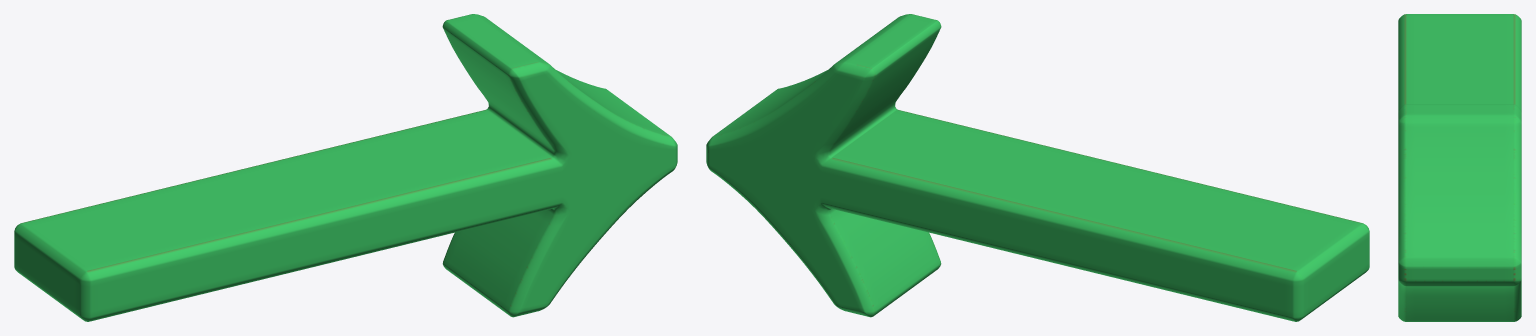
Rendered from flecheFine.fbx.
3 renders of one model, left to right at view 1: azimuth 30°, elevation 25°; view 2: azimuth 150°, elevation 25°; view 3: azimuth 270°, elevation 25°, orthographic. The views are drawn at different scales.
Visible parts, largest first — view 1: node_id29; view 2: node_id29; view 3: node_id29.
Part boxes in pixels (x1=…): node_id29: x1=14, y1=14, x2=677, y2=321; node_id29: x1=706, y1=14, x2=1369, y2=321; node_id29: x1=1398, y1=14, x2=1521, y2=321.
Bounding box in the file's own units: 0.512 × 0.2039 × 0.11.
Materials: 1 (1 with a texture image).
